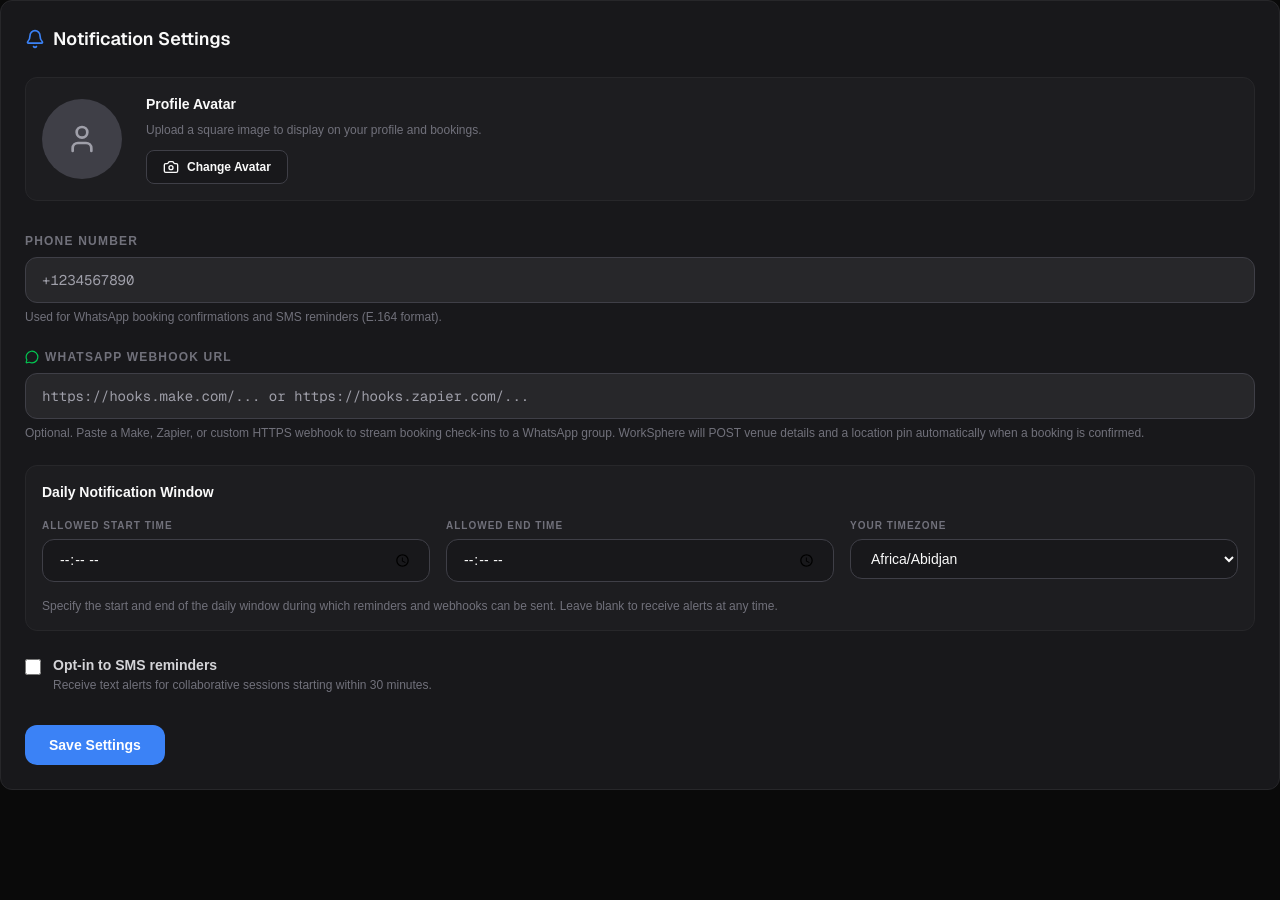
Scenario: NotificationSettings › submits updated settings via POST /api/user/settings
In the field labelled "Phone Number": (640, 280) [25,257,1255,303], type "+15551234567"
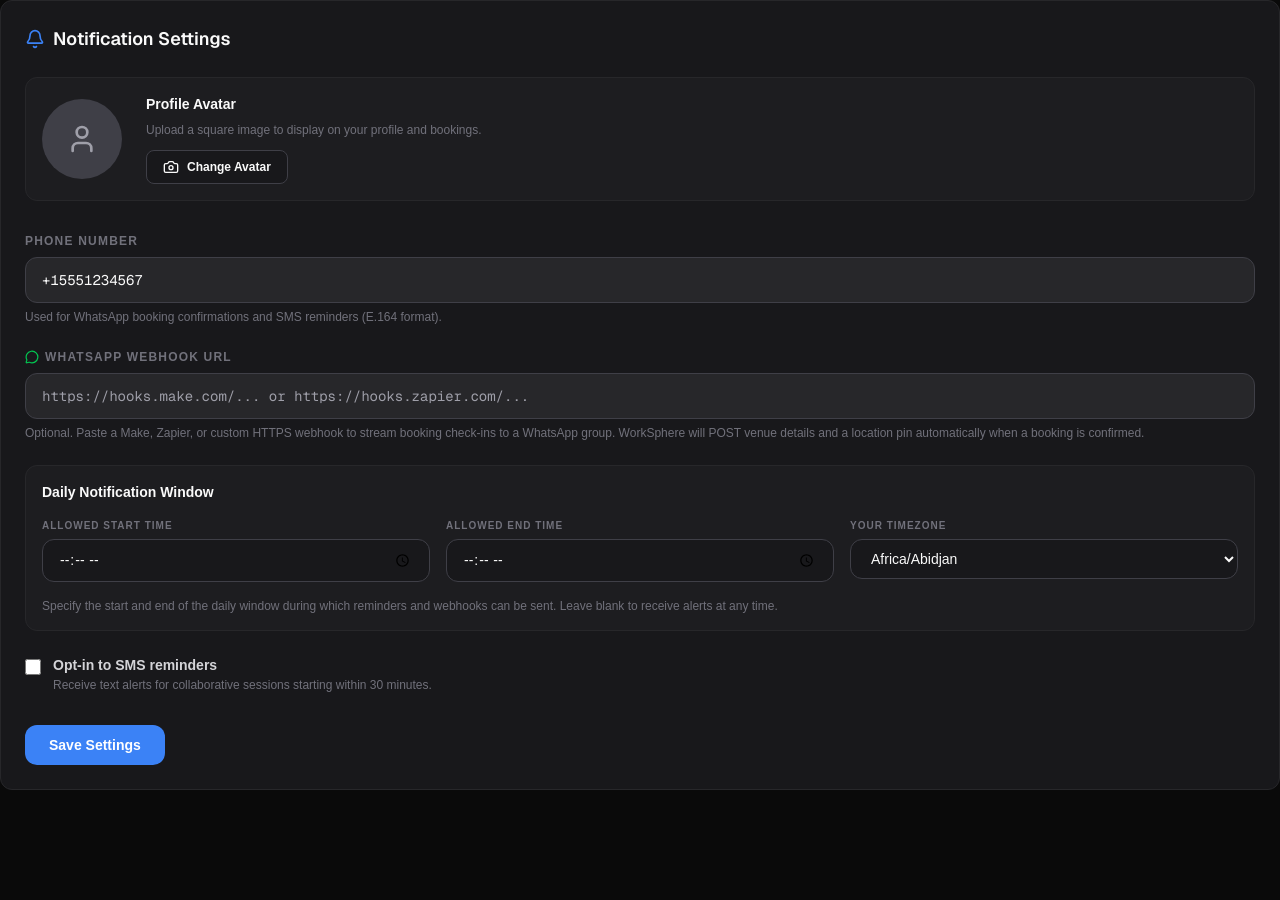
Click the button "Save Settings": (95, 745) [25,725,165,765]
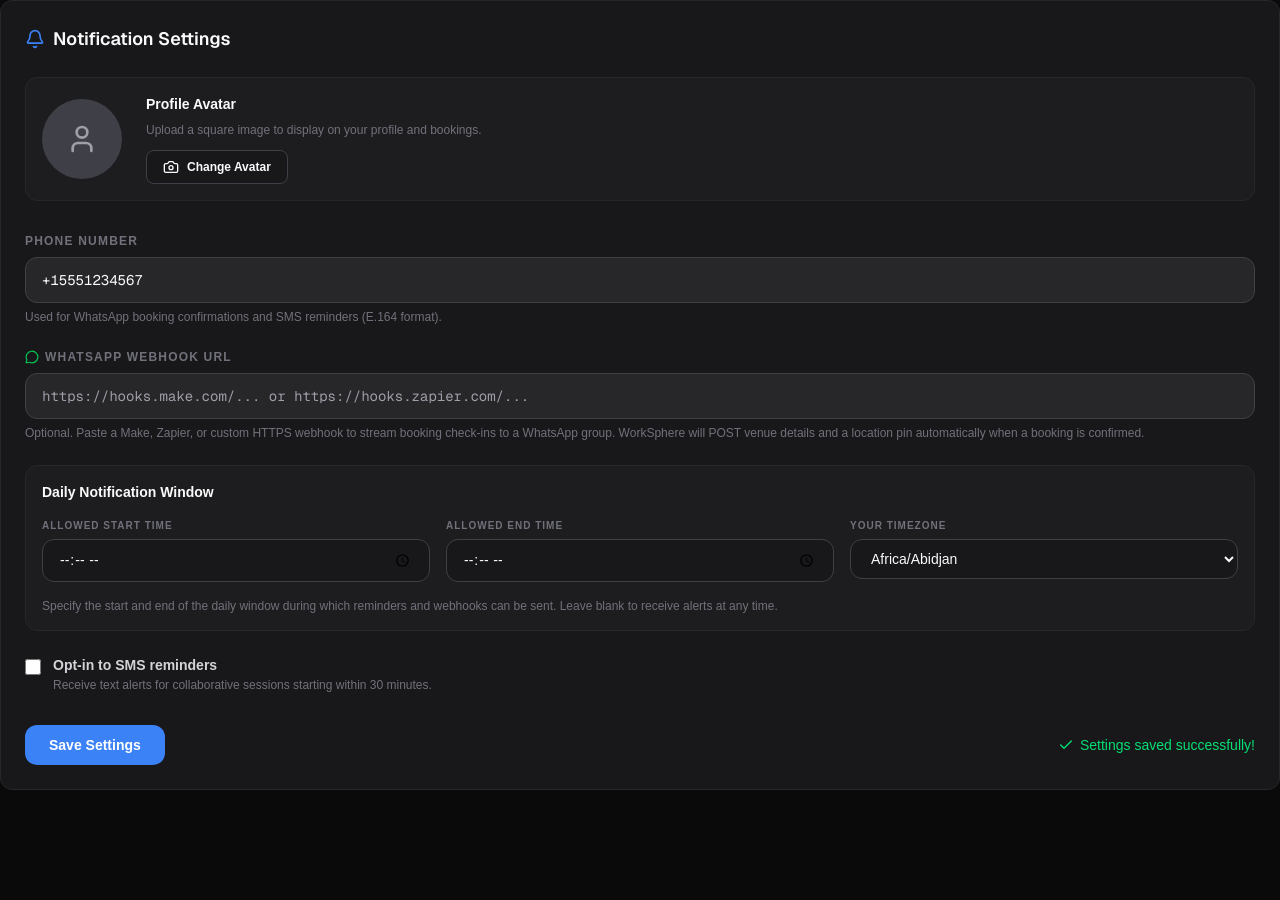
Now the text "Settings saved successfully!" is shown, box [1058,735,1255,755]
